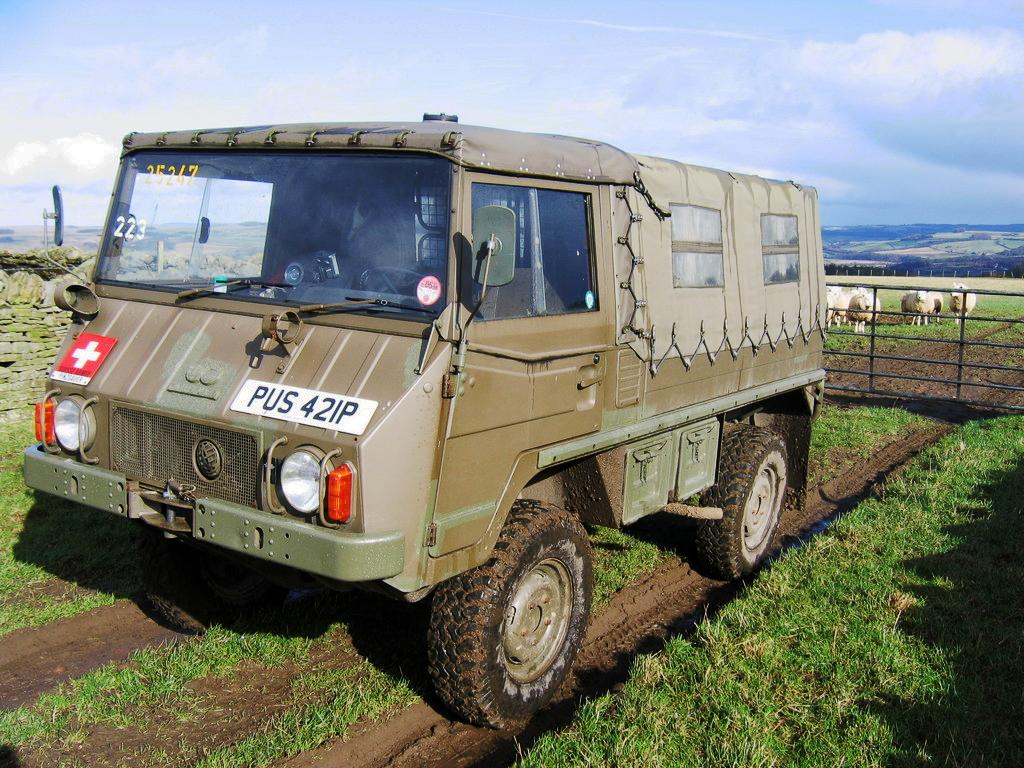Sheep: (850, 276, 875, 339), (950, 280, 981, 330), (902, 282, 926, 326), (830, 279, 841, 344), (928, 284, 942, 330)
